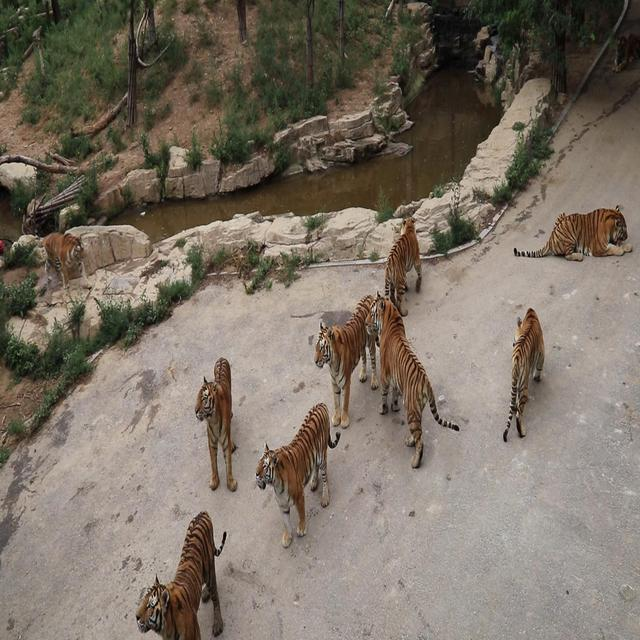tiger: (375, 294, 460, 468), (254, 402, 340, 548), (134, 510, 227, 639), (313, 291, 377, 428), (512, 204, 633, 261), (194, 356, 238, 491), (502, 307, 544, 442), (383, 217, 423, 316), (41, 231, 89, 289), (610, 31, 639, 73)
